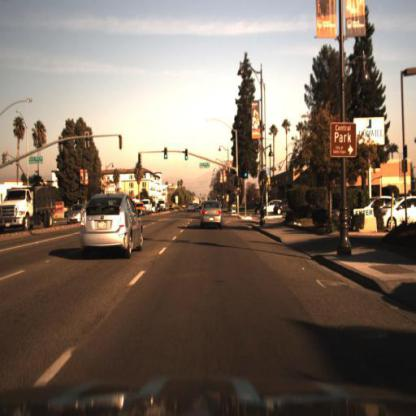car: (75, 190, 142, 264), (201, 196, 224, 229), (66, 203, 87, 230), (273, 199, 293, 220), (185, 200, 198, 217)
trafficLight: (138, 150, 144, 166)
trafficLight-Green: (247, 160, 255, 182), (162, 145, 170, 161), (185, 140, 191, 159)
